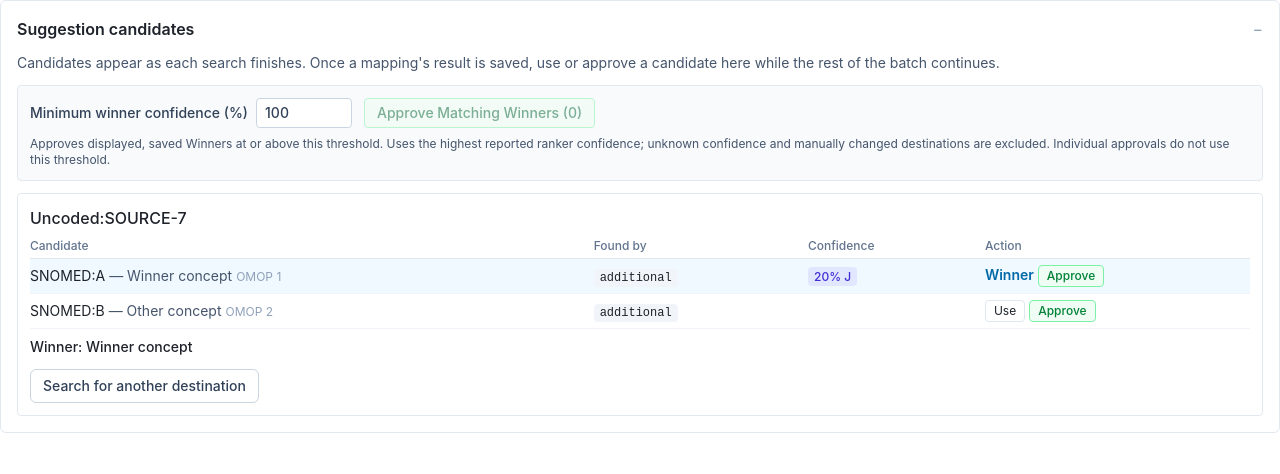
explicit matching Winner approval › rejects invalid threshold  without blocking individual approval
Clear the number field labelled "Minimum winner confidence (%)": (304, 113) [256,98,352,128]
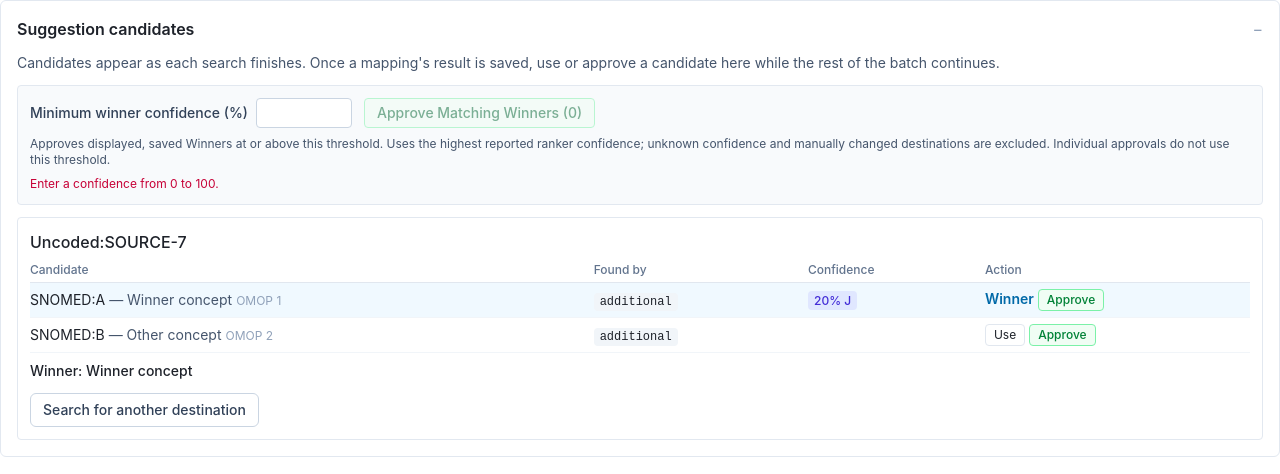
Expected: the button "Approve Matching Winners (0)" is disabled, [364,98,595,128]
Expected: the number field labelled "Minimum winner confidence (%)" is marked as invalid, [256,98,352,128]
Click the button with aria-label "Approve Winner concept for SOURCE-7": (1071, 300) [1038,289,1104,311]
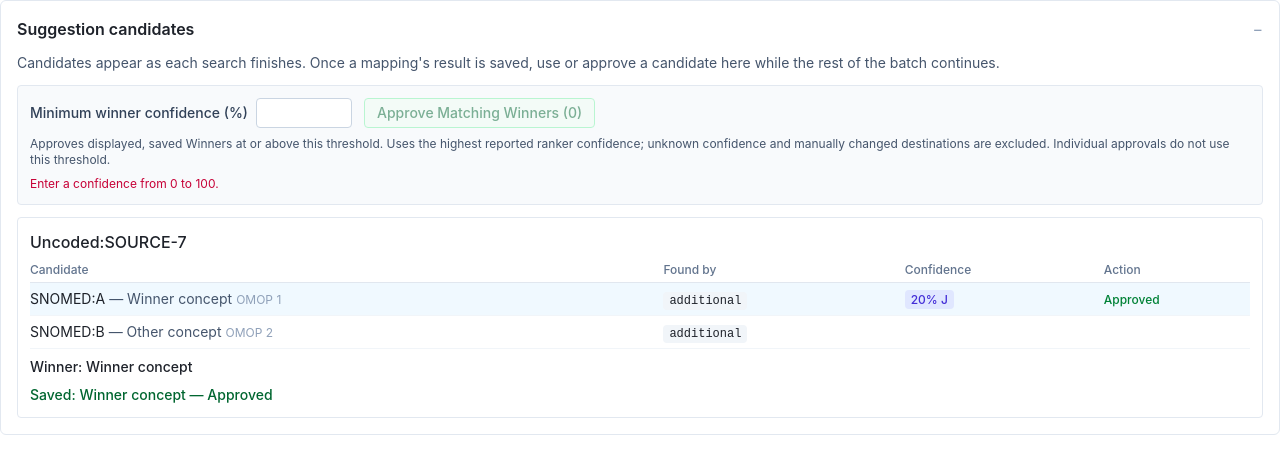
Expected: the text "Saved: Winner concept — Approved" is shown, [30,385,273,405]
